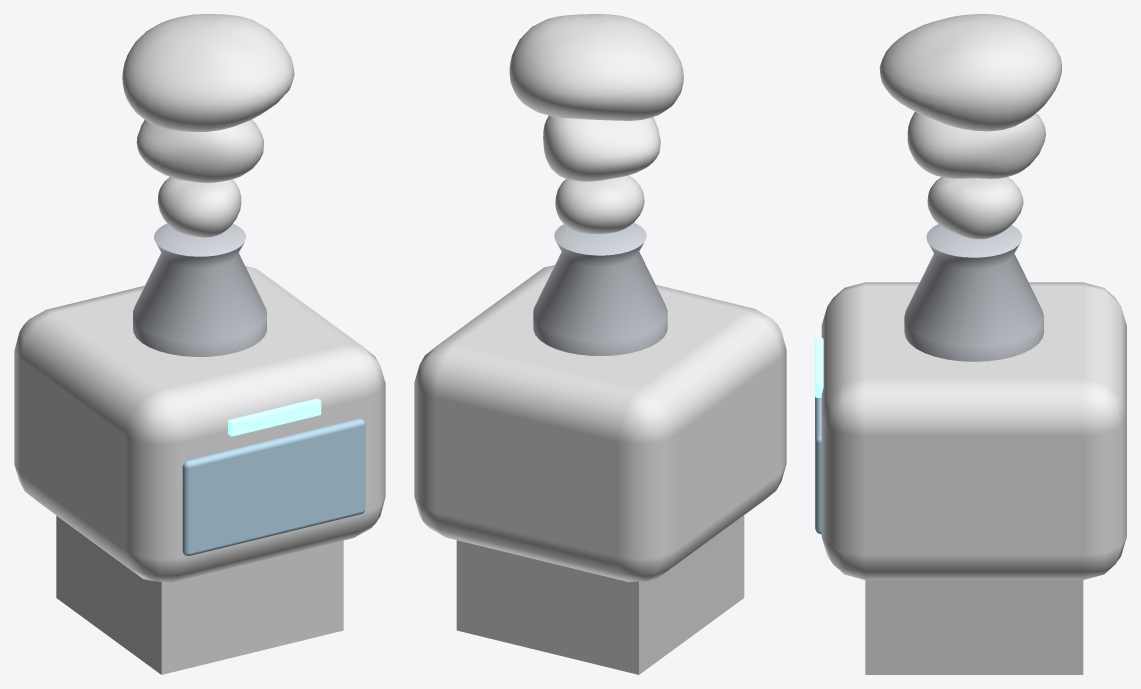
File: Fogger.fbx
3 renders of one model, left to right at view 1: azimuth 30°, elevation 25°; view 2: azimuth 150°, elevation 25°; view 3: azimuth 270°, elevation 25°, orthographic. The views are drawn at different scales.
Visible parts, largest first — view 1: Body__White, Origin__Pivot.009, Body__Glass.004, Mist2__White@pulse_2, Body__Chrome.006, Mist1__White@pulse_1.5, Mist0__White@pulse_1, Body__NeonCyan.002; view 2: Body__White, Origin__Pivot.009, Mist2__White@pulse_2, Body__Chrome.006, Mist1__White@pulse_1.5, Mist0__White@pulse_1; view 3: Body__White, Origin__Pivot.009, Mist2__White@pulse_2, Body__Chrome.006, Mist1__White@pulse_1.5, Mist0__White@pulse_1, Body__Glass.004, Body__NeonCyan.002.
Part boxes in pixels (<box>): Body__White: <box>14,266,385,582</box>; Origin__Pivot.009: <box>56,515,343,674</box>; Body__Glass.004: <box>182,418,365,555</box>; Mist2__White@pulse_2: <box>122,14,294,131</box>; Body__Chrome.006: <box>133,223,266,356</box>; Mist1__White@pulse_1.5: <box>136,119,263,182</box>; Mist0__White@pulse_1: <box>157,177,241,237</box>; Body__NeonCyan.002: <box>228,398,321,436</box>; Body__White: <box>414,265,786,581</box>; Origin__Pivot.009: <box>456,515,744,674</box>; Mist2__White@pulse_2: <box>509,14,683,120</box>; Body__Chrome.006: <box>533,223,667,355</box>; Mist1__White@pulse_1.5: <box>543,115,660,181</box>; Mist0__White@pulse_1: <box>555,175,644,234</box>; Body__White: <box>821,282,1126,579</box>; Origin__Pivot.009: <box>865,580,1083,674</box>; Mist2__White@pulse_2: <box>879,14,1061,131</box>; Body__Chrome.006: <box>904,224,1043,361</box>; Mist1__White@pulse_1.5: <box>907,111,1045,178</box>; Mist0__White@pulse_1: <box>927,177,1023,239</box>; Body__Glass.004: <box>815,396,821,534</box>; Body__NeonCyan.002: <box>815,338,823,397</box>.
Size of the model in its own units: 140 by 307 by 143.
